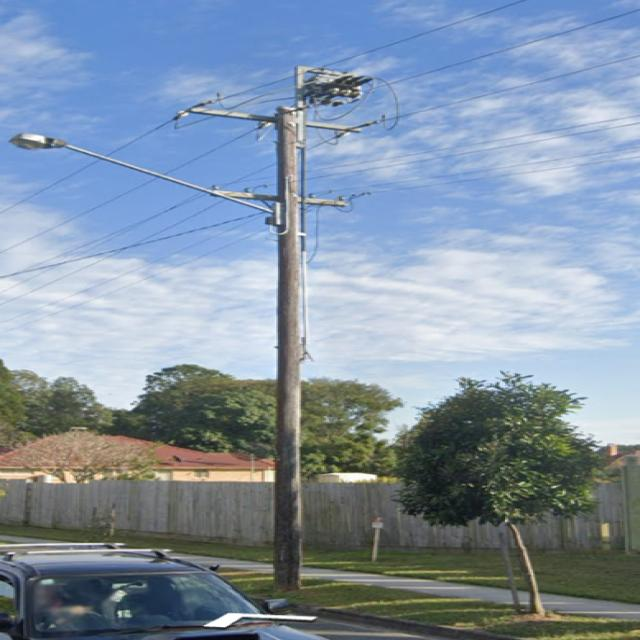HV-switch: (294, 66, 376, 107)
HV-transmission: (176, 102, 368, 133)
crossarm: (183, 105, 361, 134), (213, 189, 352, 208)
streetlight: (10, 132, 278, 216)
timber-pole: (275, 107, 303, 590)
